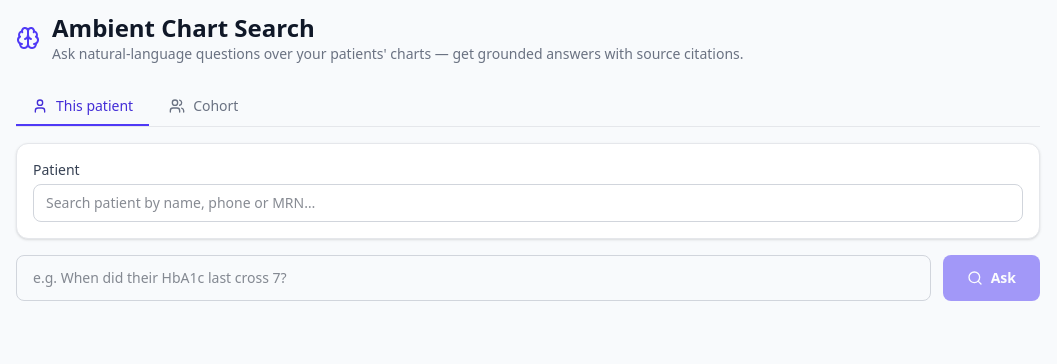
Ambient Chart Search dashboard page › clicking Change clears the pinned patient and re-renders the search input
In the field with placeholder "Search patient by name, phone or MRN…": (528, 203) [33, 184, 1023, 222], type "Asha"
Wait 350 ms
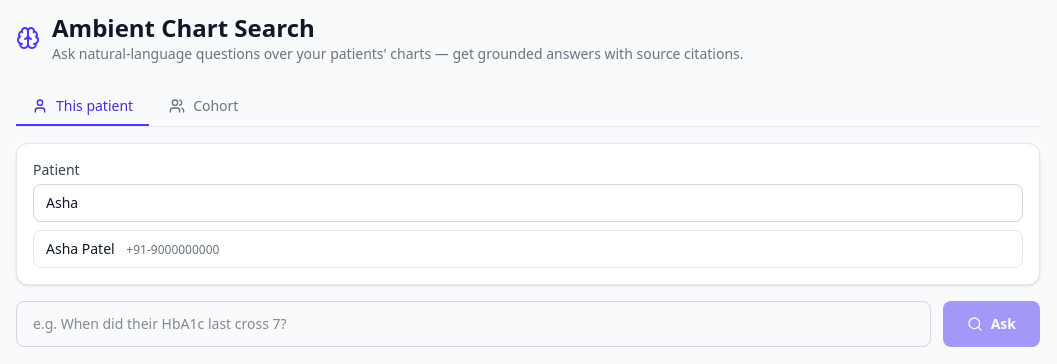
Click the button "Asha Patel +91-9000000000": (80, 248) [34, 231, 1022, 267]
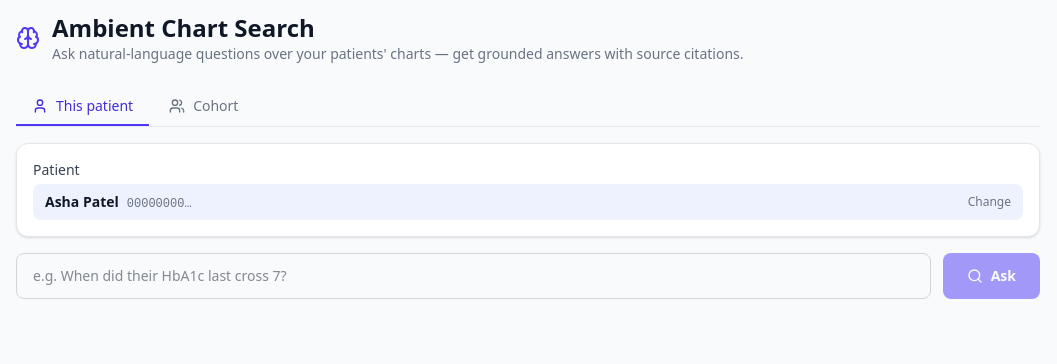
Click the button "Change": (989, 202) [968, 194, 1011, 210]
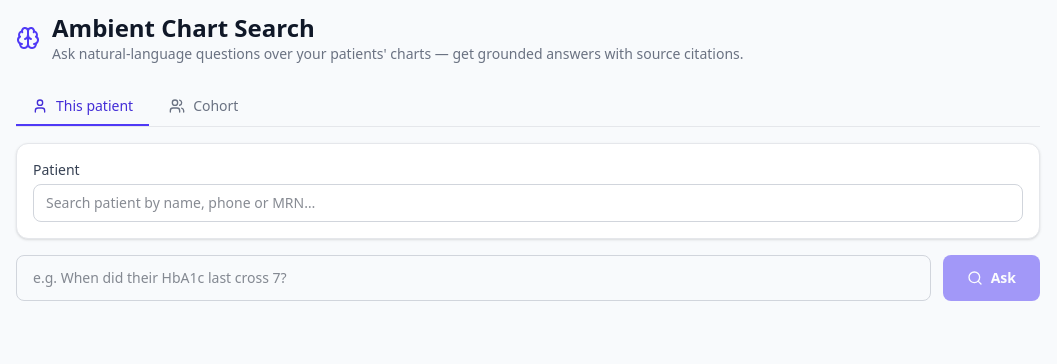
Now the field with placeholder "Search patient by name, phone or MRN…" is shown, box [33, 184, 1023, 222]
